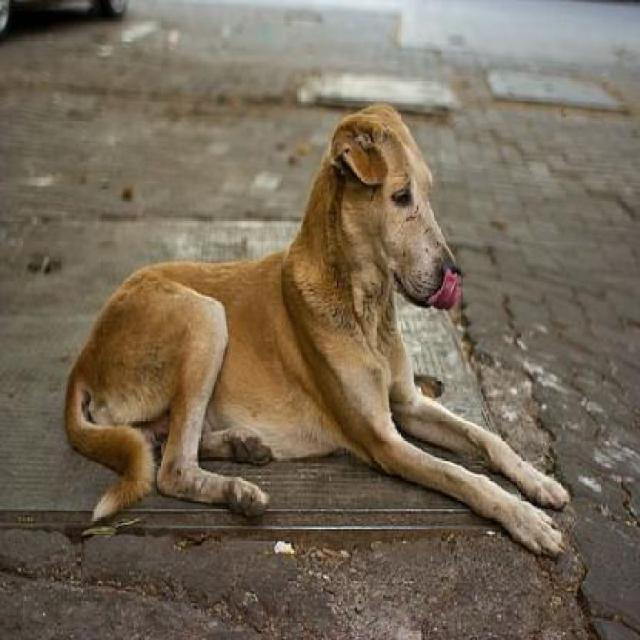dog: (87, 89, 547, 543)
